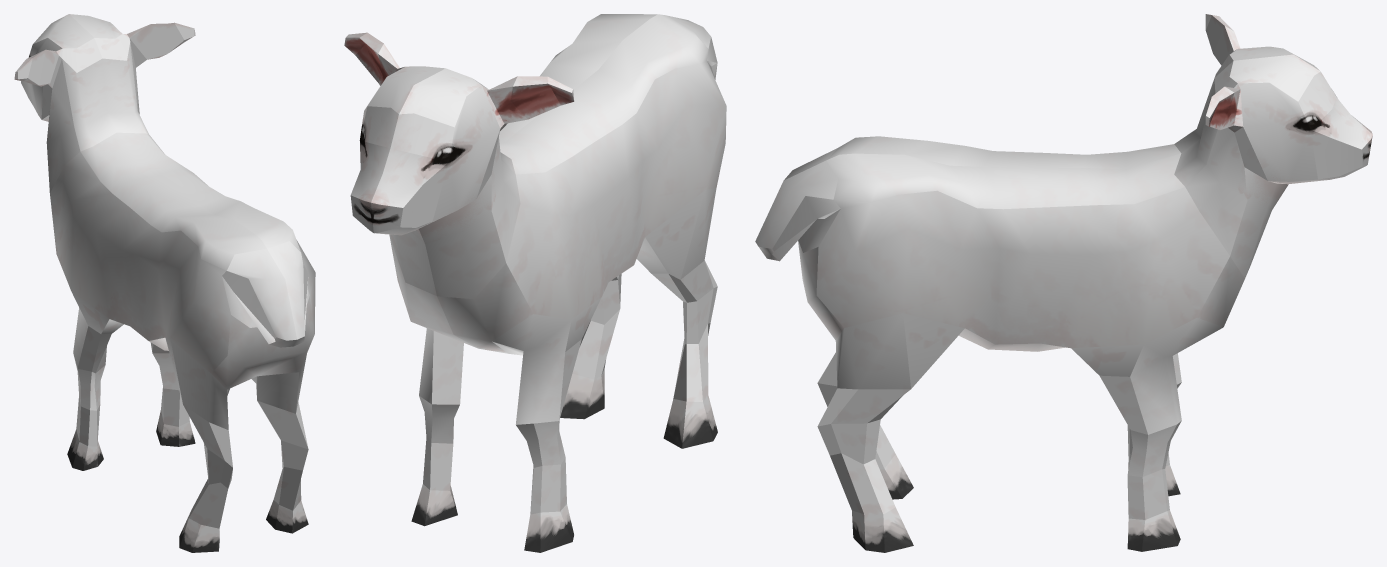
Rendered from Lamb_FBX.fbx.
3 renders of one model, left to right at view 1: azimuth 30°, elevation 25°; view 2: azimuth 150°, elevation 25°; view 3: azimuth 270°, elevation 25°, orthographic. The views are drawn at different scales.
Parts seen in each view (by area): view 1: Lamb_Model; view 2: Lamb_Model; view 3: Lamb_Model.
Boxes of the visible parts, <box> form: Lamb_Model: <box>14,14,315,552</box>; Lamb_Model: <box>344,14,726,552</box>; Lamb_Model: <box>755,14,1372,552</box>.
Bounding box in the file's own units: 41.81 × 86.45 × 105.
1 material, 1 textured.
